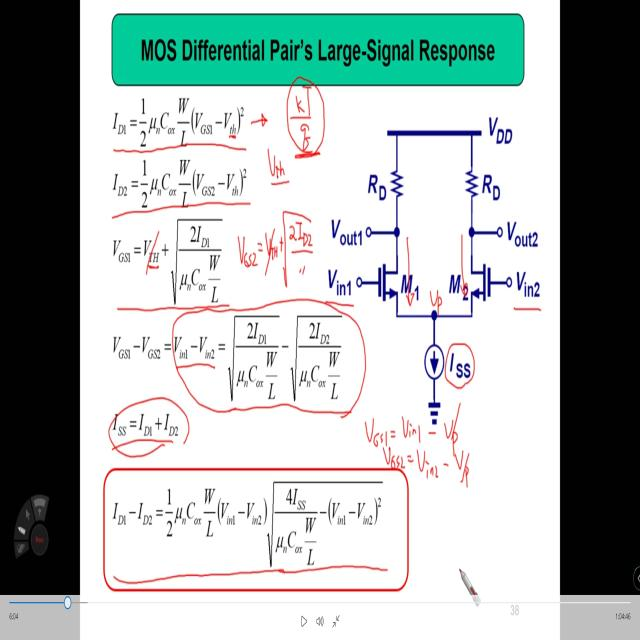panseo: (232, 70, 327, 297), (353, 397, 485, 505), (424, 282, 451, 322)
